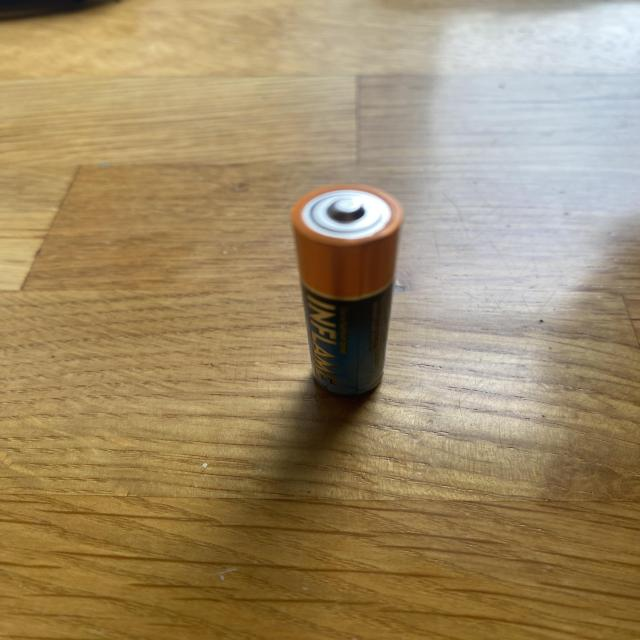AA: (289, 183, 405, 395)
